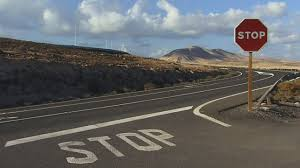stop_sign: (234, 18, 269, 53)
